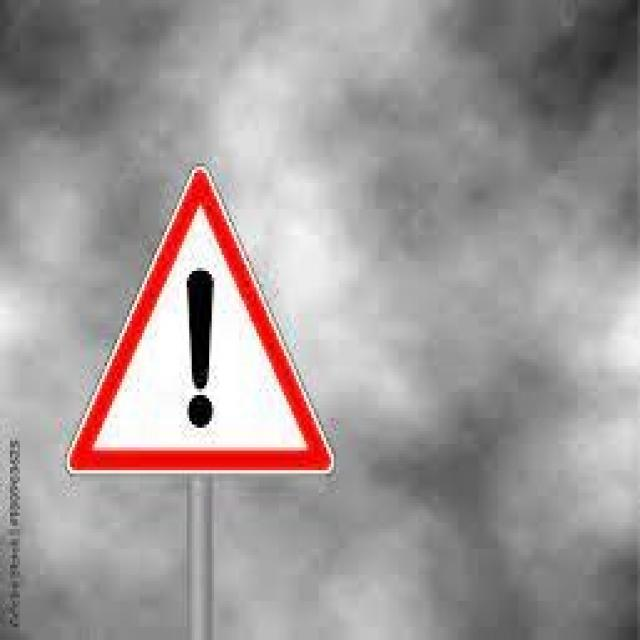warning: (66, 157, 339, 488)
